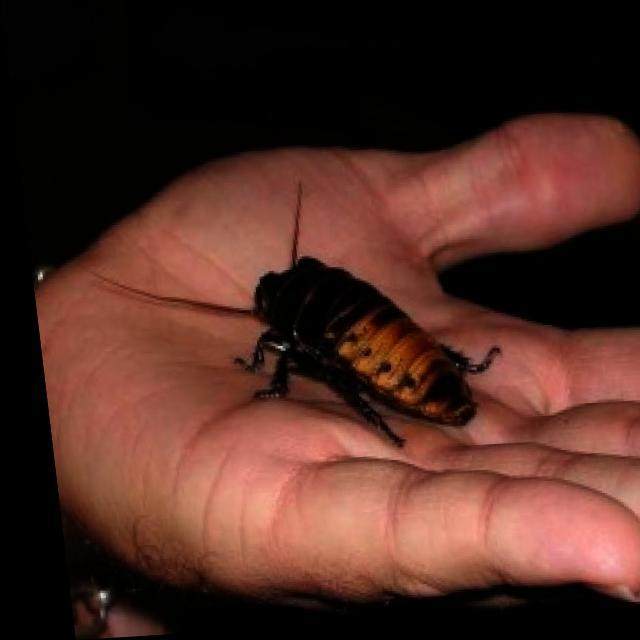cockroach: (86, 178, 506, 452)
